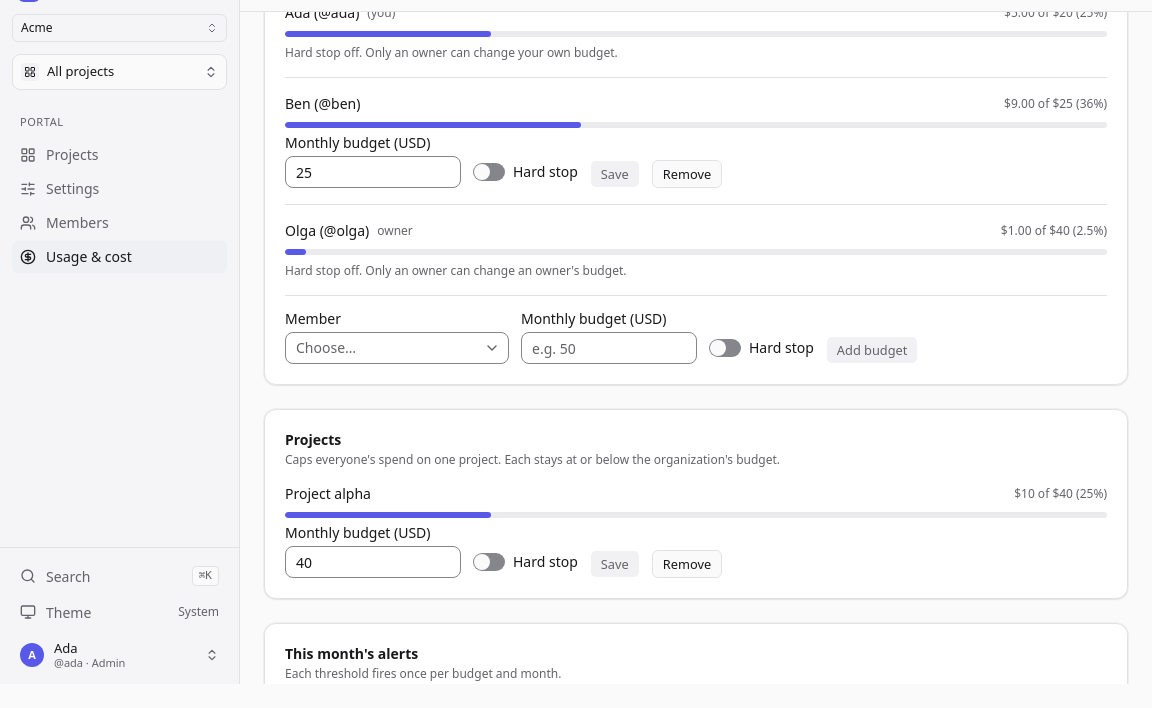
Test case: budget editor › makes an admin's own row and owners' rows read-only, and keeps them out of the picker
(page scrolled)
Expected: the element with test id "budget-member-u1" shows "Only an owner can change your own budget.", [359,44,618,61]
Expected: the element with test id "budget-member-u3" shows "Only an owner can change an owner's budget.", [359,262,626,279]
Step 1. Click the dropdown named "Member" → (397, 348), box [285,332,509,364]
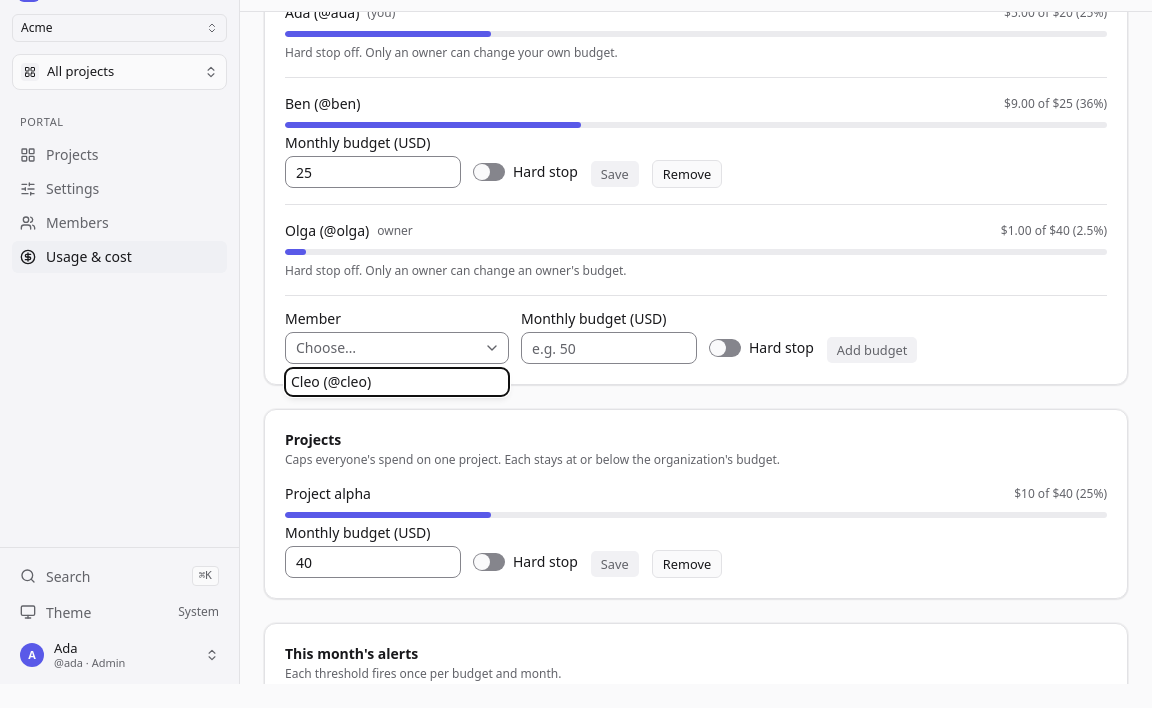
Step 2. Press Escape
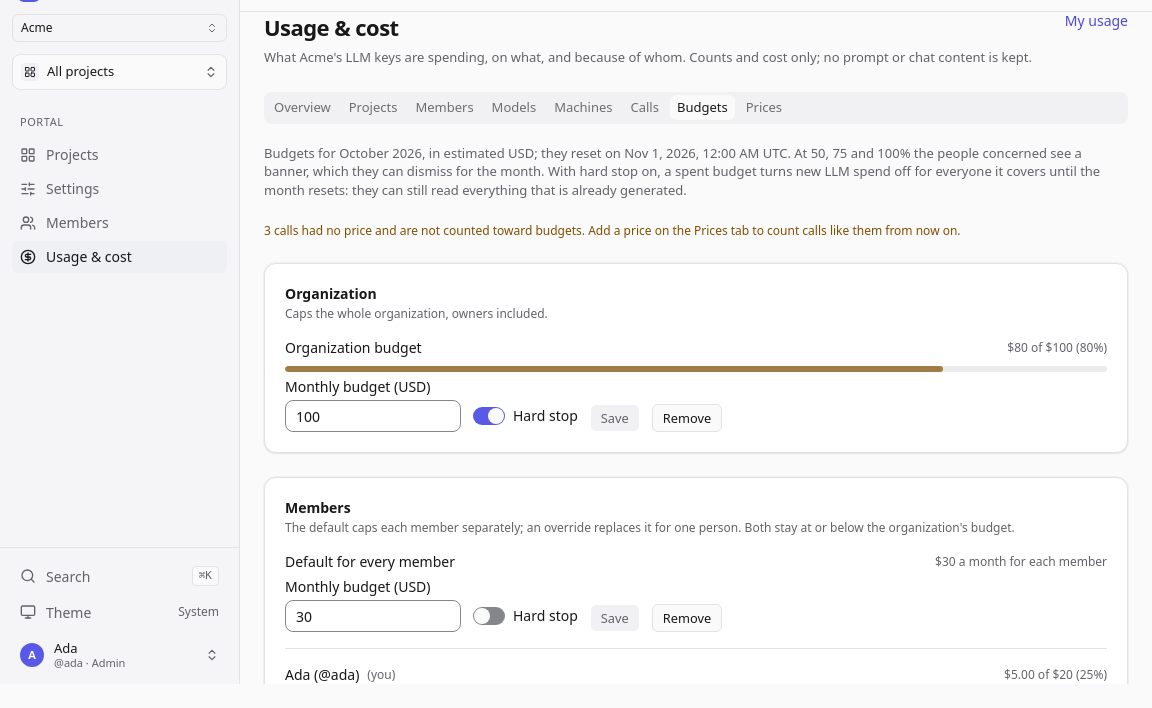
Result: the text with test id "unpriced-note" shows "3 calls had no price and are not counted toward budgets" at [264,222,961,239]
Result: the text with test id "budget-org-spent" reads "$80 of $100 (80%)" at [1007,339,1107,356]
